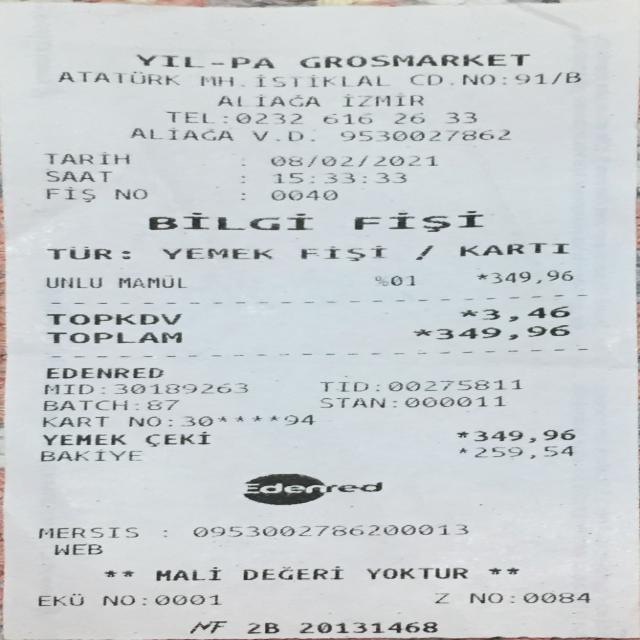text: (148, 209, 310, 233), (299, 52, 528, 67), (352, 209, 482, 233), (187, 524, 467, 534), (339, 126, 507, 142), (456, 241, 566, 260), (268, 154, 436, 166), (252, 74, 390, 88), (58, 69, 178, 85), (160, 245, 270, 262), (432, 326, 570, 339), (298, 619, 434, 632), (47, 312, 180, 325), (47, 330, 180, 343), (238, 481, 382, 493), (365, 563, 464, 580), (298, 243, 384, 262), (240, 564, 340, 580), (270, 171, 402, 183), (384, 379, 520, 390), (112, 382, 247, 393), (129, 126, 230, 140), (403, 394, 503, 408), (473, 428, 573, 442), (216, 93, 317, 106), (34, 525, 135, 538), (339, 93, 432, 107), (44, 366, 160, 377), (478, 445, 575, 458), (37, 449, 139, 461), (45, 245, 109, 264), (41, 398, 125, 412), (479, 307, 569, 320), (489, 270, 572, 284), (41, 432, 124, 446), (153, 564, 218, 581), (142, 430, 208, 446), (43, 153, 128, 164), (133, 54, 198, 68), (45, 168, 109, 182), (318, 395, 382, 409), (522, 590, 586, 604), (44, 184, 93, 202), (238, 110, 300, 124), (152, 592, 216, 605), (252, 126, 311, 140), (118, 276, 184, 288), (267, 188, 336, 199), (39, 415, 107, 426), (164, 110, 213, 124), (228, 53, 272, 68), (45, 276, 99, 288), (318, 379, 367, 392), (51, 542, 100, 555), (324, 110, 366, 124), (112, 184, 144, 202), (36, 592, 80, 605), (407, 70, 442, 86), (462, 70, 497, 86), (42, 382, 92, 393), (516, 70, 550, 86), (245, 619, 278, 634), (187, 620, 225, 633), (144, 397, 177, 411), (468, 590, 500, 604), (101, 592, 132, 605), (125, 414, 158, 426), (180, 413, 210, 426), (446, 111, 475, 124), (283, 412, 312, 425), (393, 111, 421, 124), (199, 75, 233, 85), (390, 273, 414, 287), (458, 308, 478, 322), (564, 71, 582, 85), (502, 70, 516, 86), (553, 70, 567, 86), (430, 590, 446, 604), (412, 327, 432, 338), (208, 53, 222, 68), (118, 244, 128, 264), (474, 270, 487, 285), (454, 445, 467, 459), (373, 272, 384, 288), (223, 110, 232, 124), (452, 431, 469, 438), (239, 190, 246, 202), (167, 414, 172, 427), (444, 81, 456, 86), (507, 590, 511, 604), (239, 154, 243, 167), (140, 592, 144, 605), (238, 172, 242, 184), (373, 379, 377, 391), (133, 397, 136, 412), (390, 394, 393, 408), (160, 524, 163, 537), (100, 382, 102, 393)
